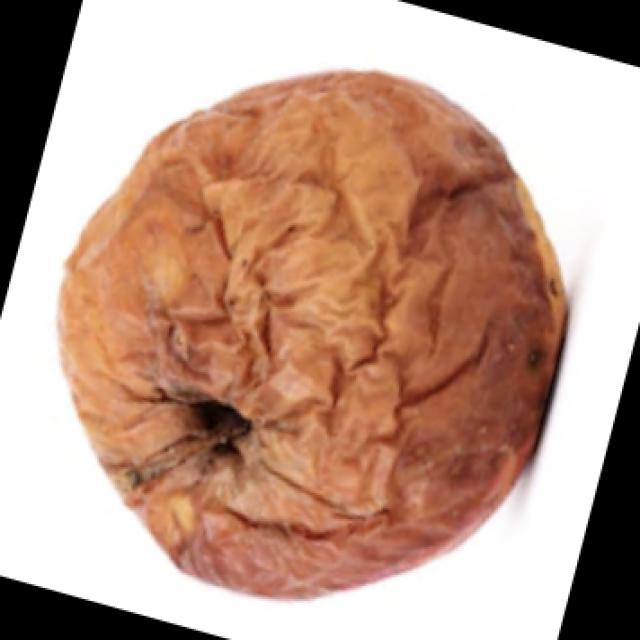Rotten: (65, 80, 592, 593)
